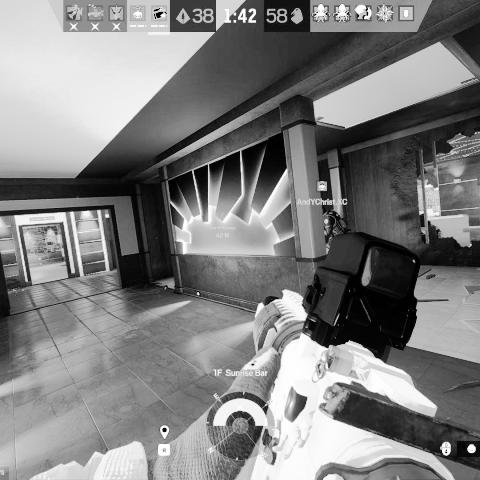Character: (322, 206, 350, 250)
Friend_label: (297, 180, 347, 205)
